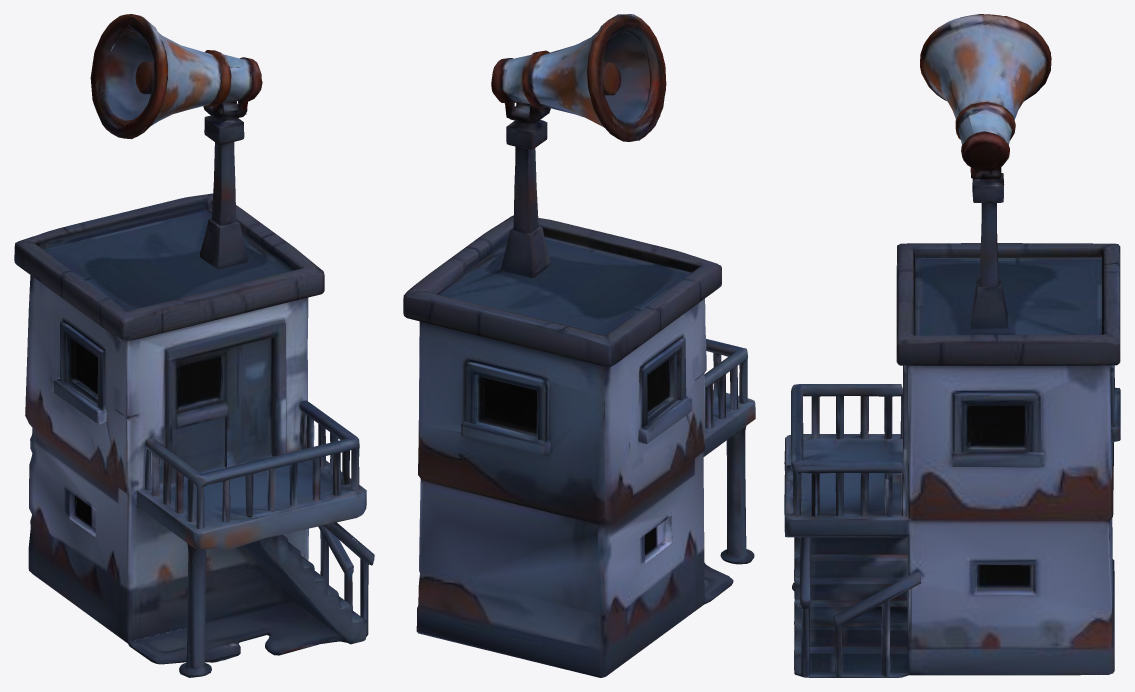
File: stair_house.glb
3 renders of one model, left to right at view 1: azimuth 30°, elevation 25°; view 2: azimuth 150°, elevation 25°; view 3: azimuth 270°, elevation 25°, orthographic. The views are drawn at different scales.
Parts seen in each view (by area): view 1: stair_house; view 2: stair_house; view 3: stair_house.
Part boxes in pixels (x1,y1,x2,y2): stair_house: (14,14,374,677); stair_house: (403,14,755,677); stair_house: (784,14,1120,677).
Bounding box in the file's own units: 0.2397 × 0.6475 × 0.3305.
1 material, 1 textured.
